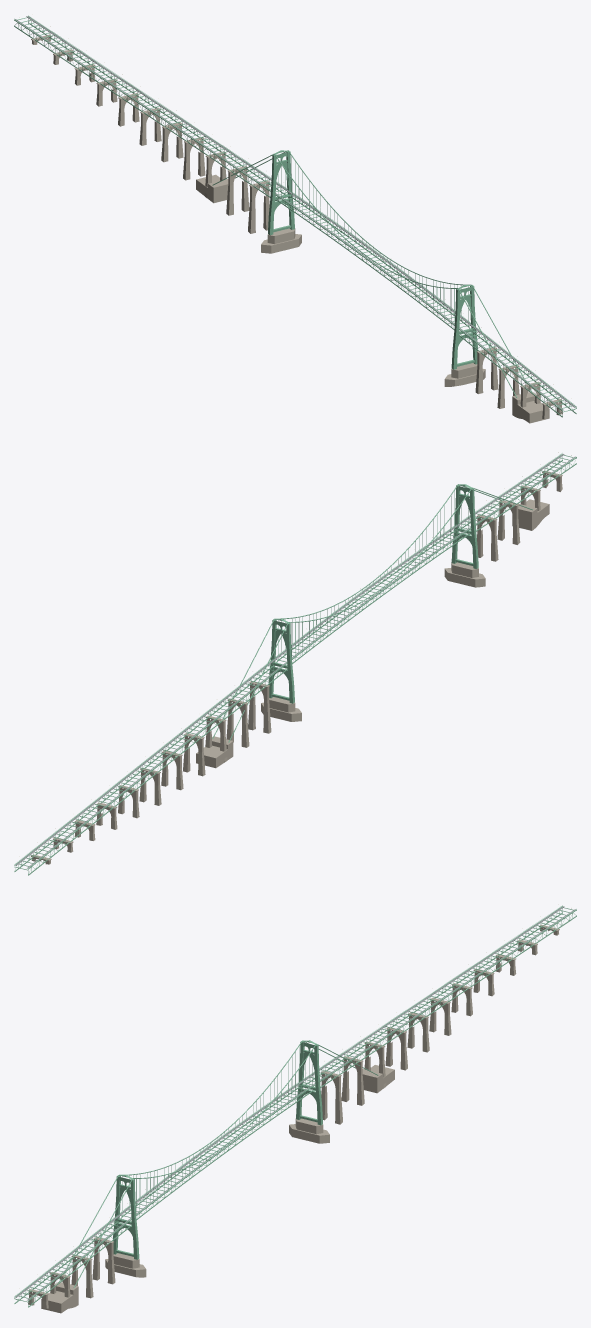
The model's file is pdx-st-johns-bridge.detail.glb.
The picture shows the model from 3 angles, top to bottom: view 1: azimuth 30°, elevation 25°; view 2: azimuth 150°, elevation 25°; view 3: azimuth 330°, elevation 25°; orthographic projection.
Visible parts, largest first — view 1: St. Johns Bridge; view 2: St. Johns Bridge; view 3: St. Johns Bridge.
Part boxes in pixels (x1,y1,x2,y2): St. Johns Bridge: (14,14,576,423); St. Johns Bridge: (14,452,576,875); St. Johns Bridge: (14,904,576,1313).
Size of the model in its own units: 47.6 by 107 by 1099.
